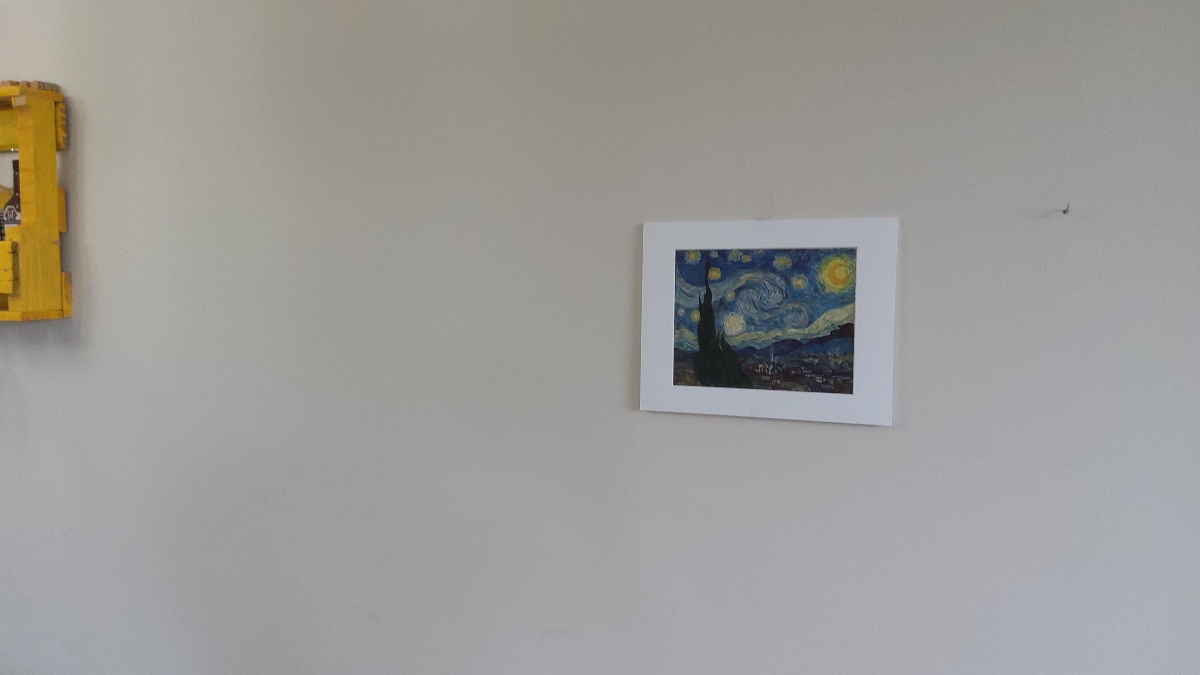painting: (666, 238, 864, 400)
